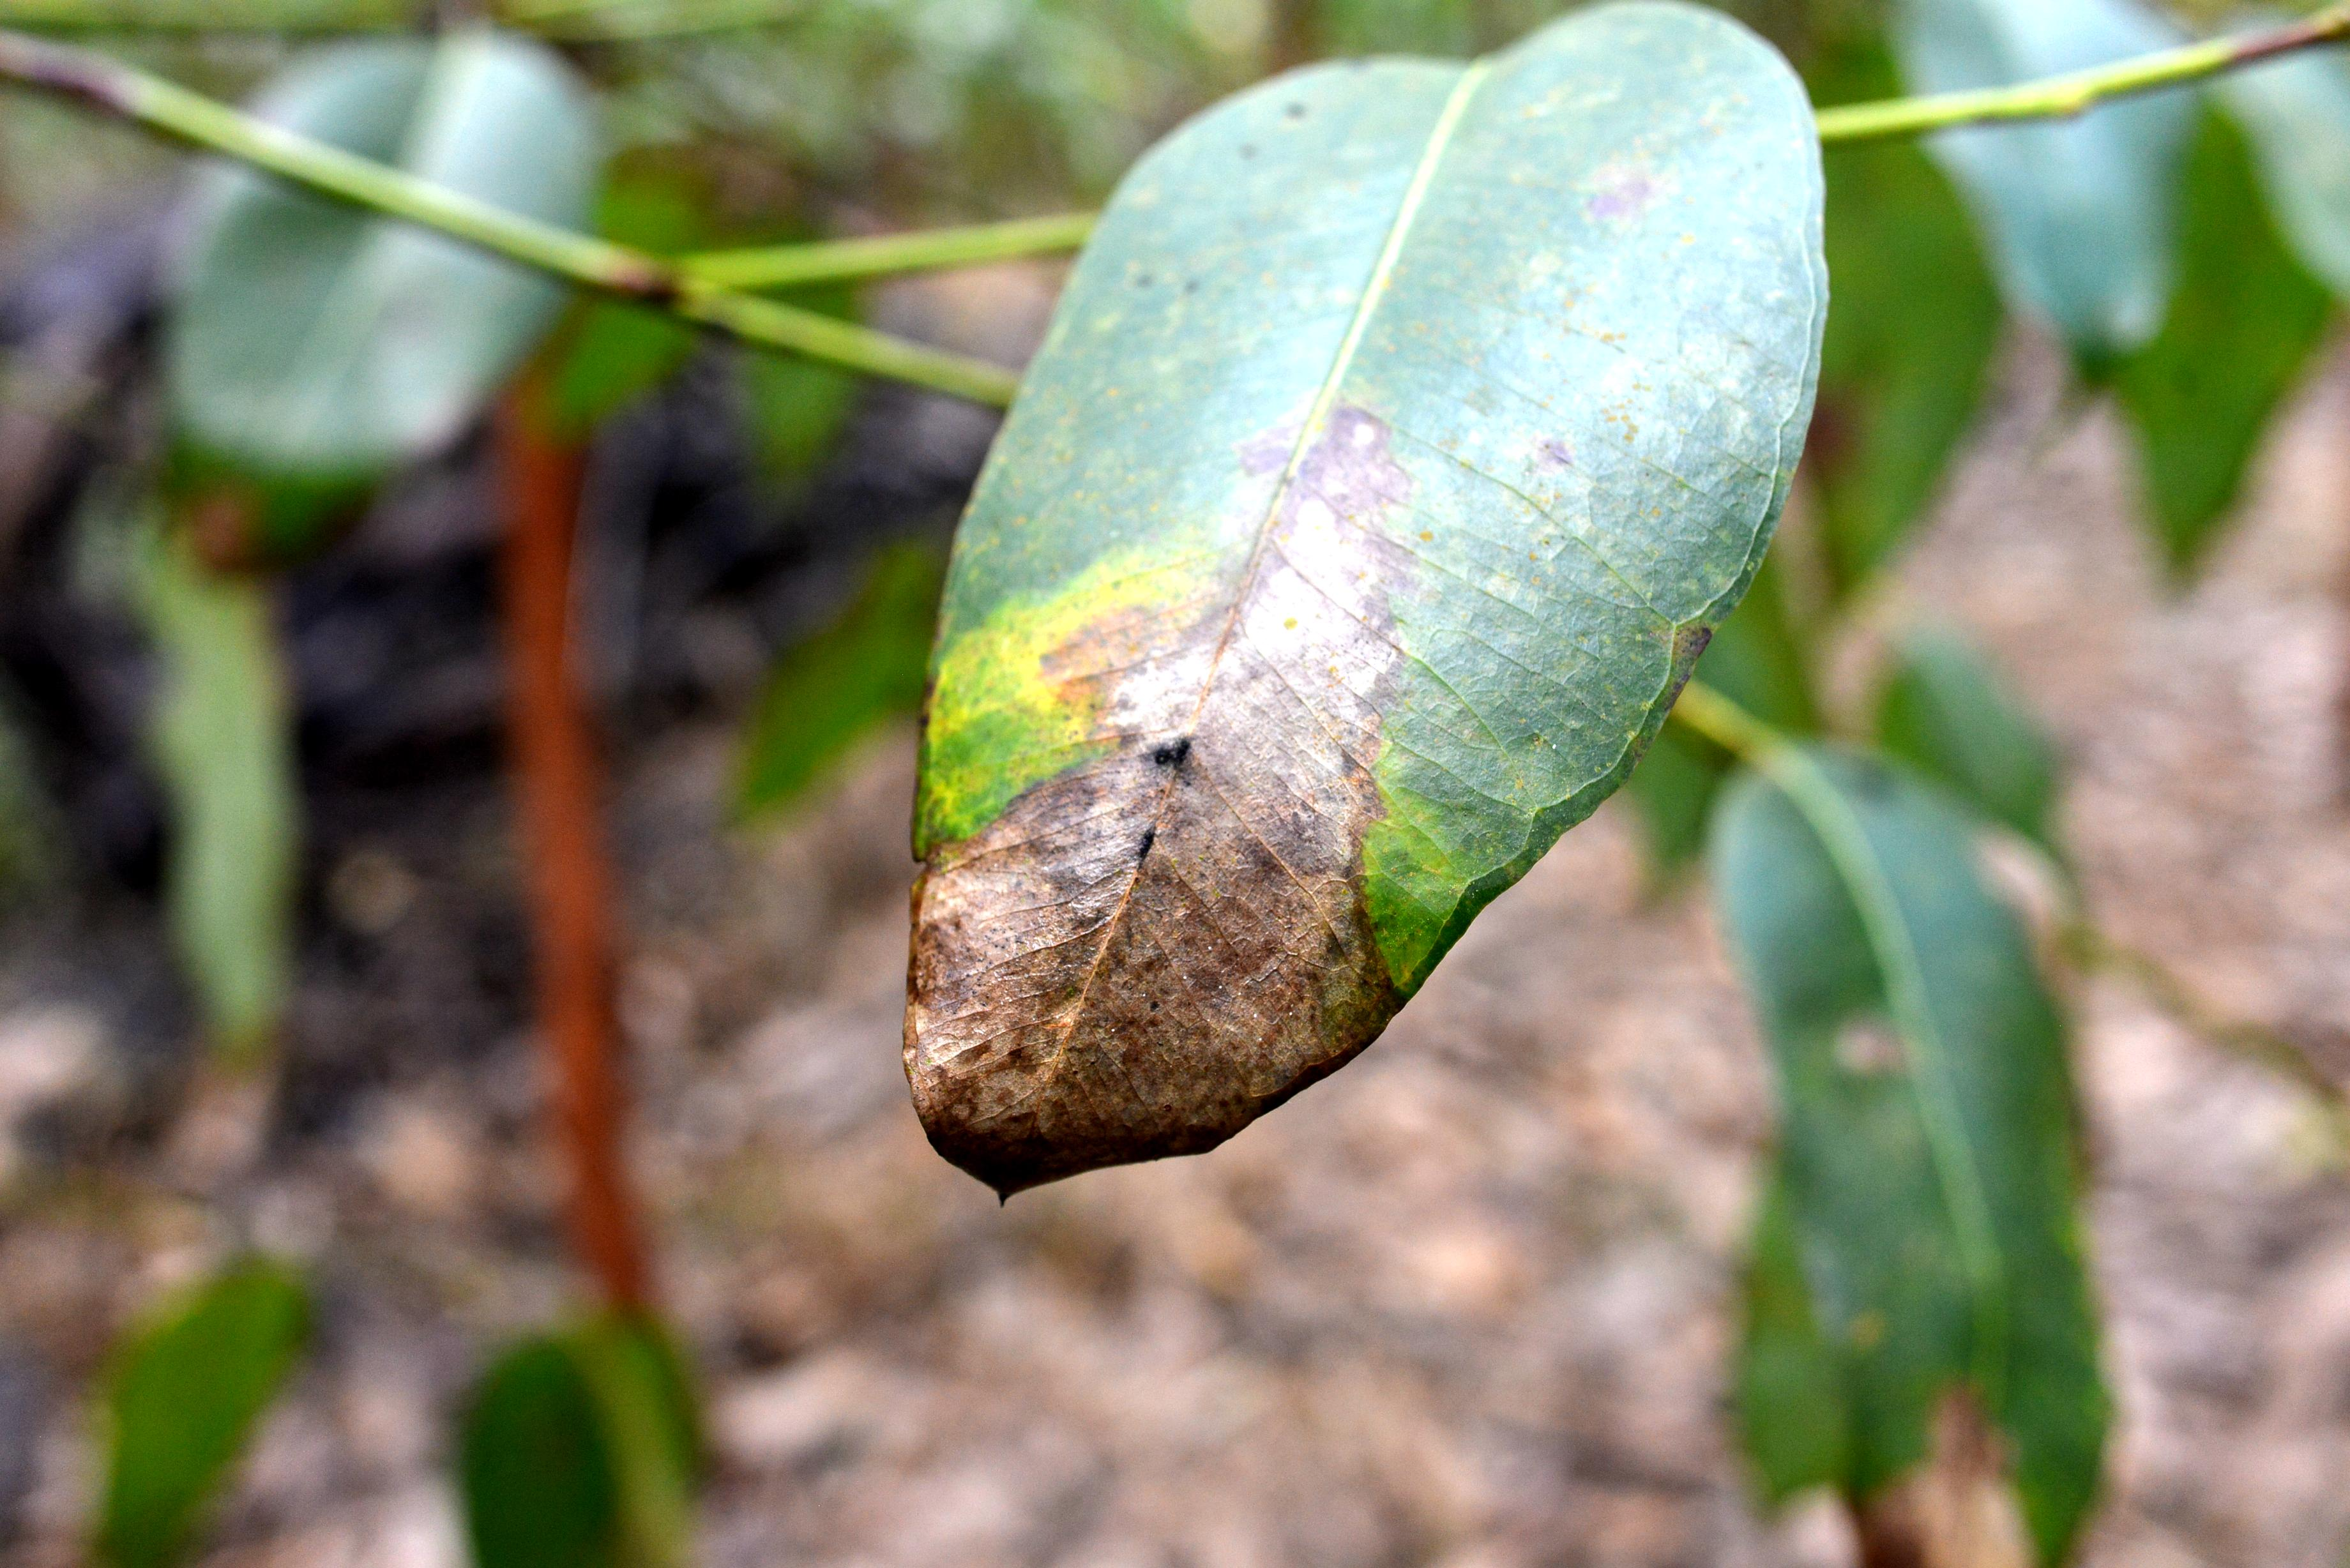Cylindrocladium: (882, 394, 1419, 1241), (1846, 1363, 2060, 1568), (185, 444, 292, 579)
